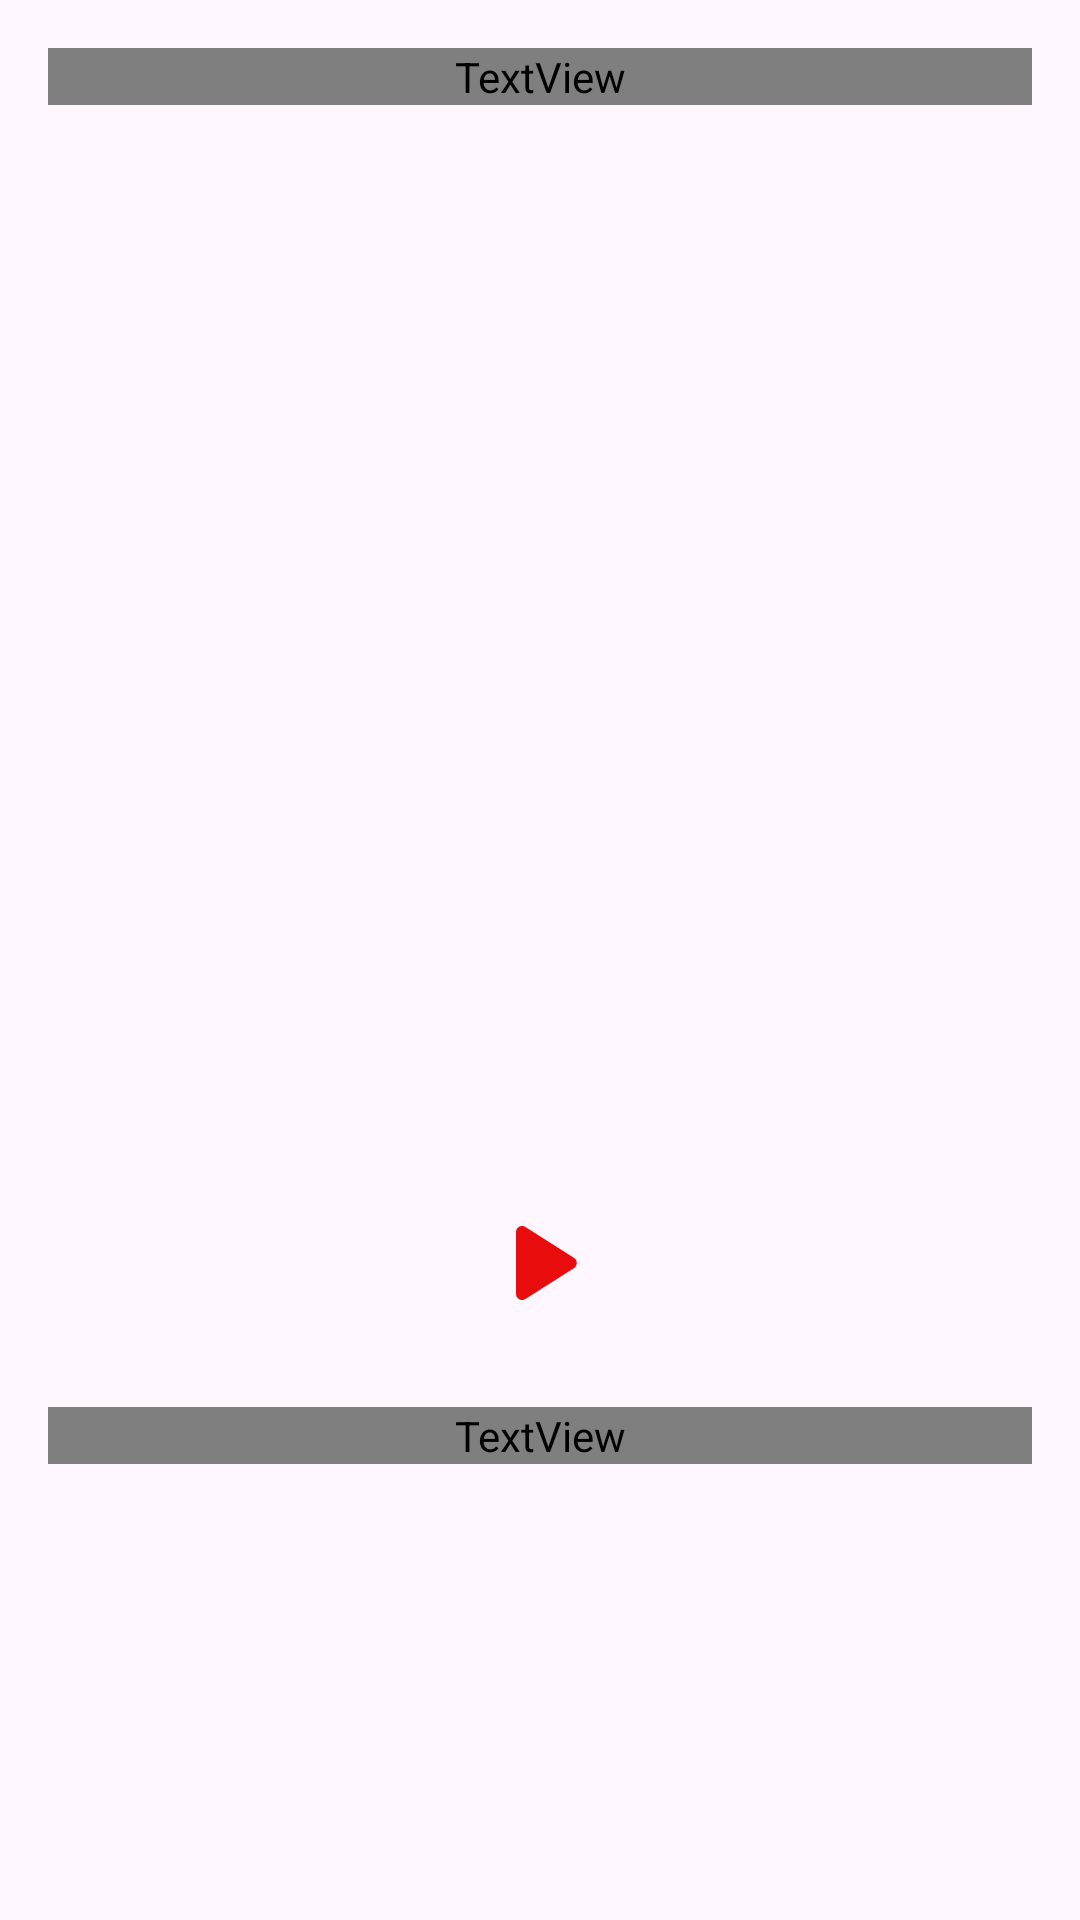

Point at icon controls on the screen. Image size 1080*1920, points as (x=x, y=y).
play: (x=546, y=1263)
